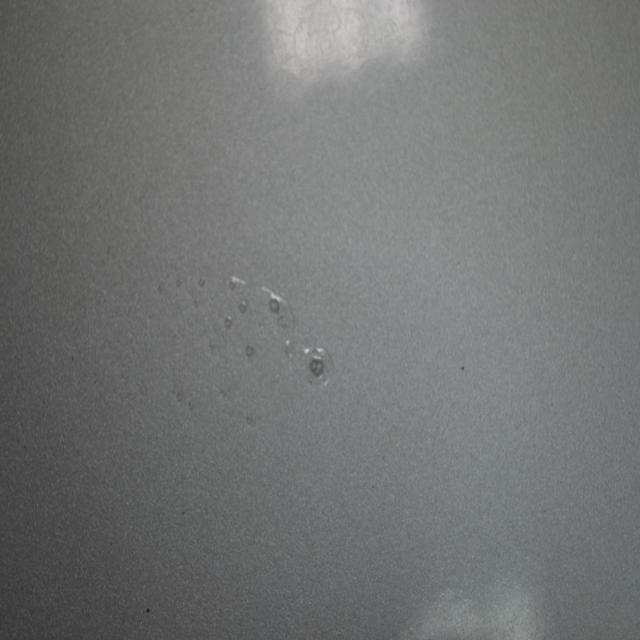dirt: (143, 603, 151, 617), (461, 360, 467, 374)
runs: (153, 271, 340, 427)
